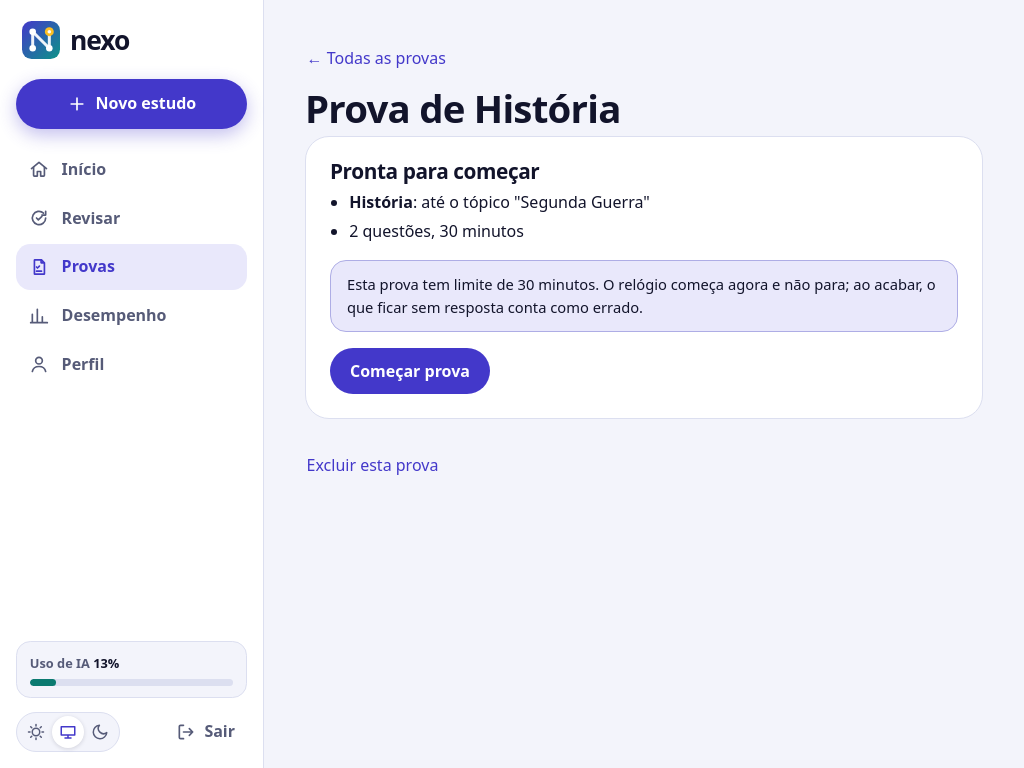
Scenario: prova não iniciada mostra o escopo e o aviso do relógio; começar e responder mandam a prova
Check: the list item "História: até o tópico \"Segunda Guerra\"" is shown, box [349,191,650,213]
Check: the text "limite de 30 minutos" is shown, box [330,260,958,332]
Click the button "Começar prova" at (410, 371), box [330,348,490,394]
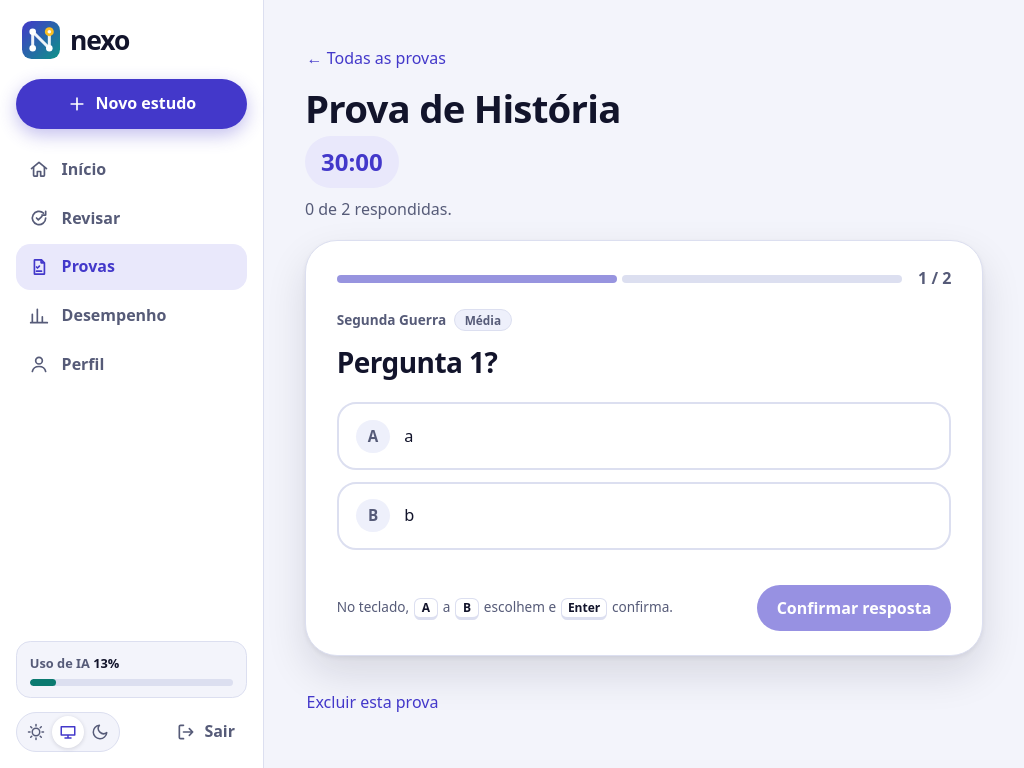
Check: the heading "Pergunta 1?" is shown, box [337,343,497,381]
Check: the text "30:00" is shown, box [321,143,383,180]
Click the button "A a" at (373, 436), box [337,402,951,470]
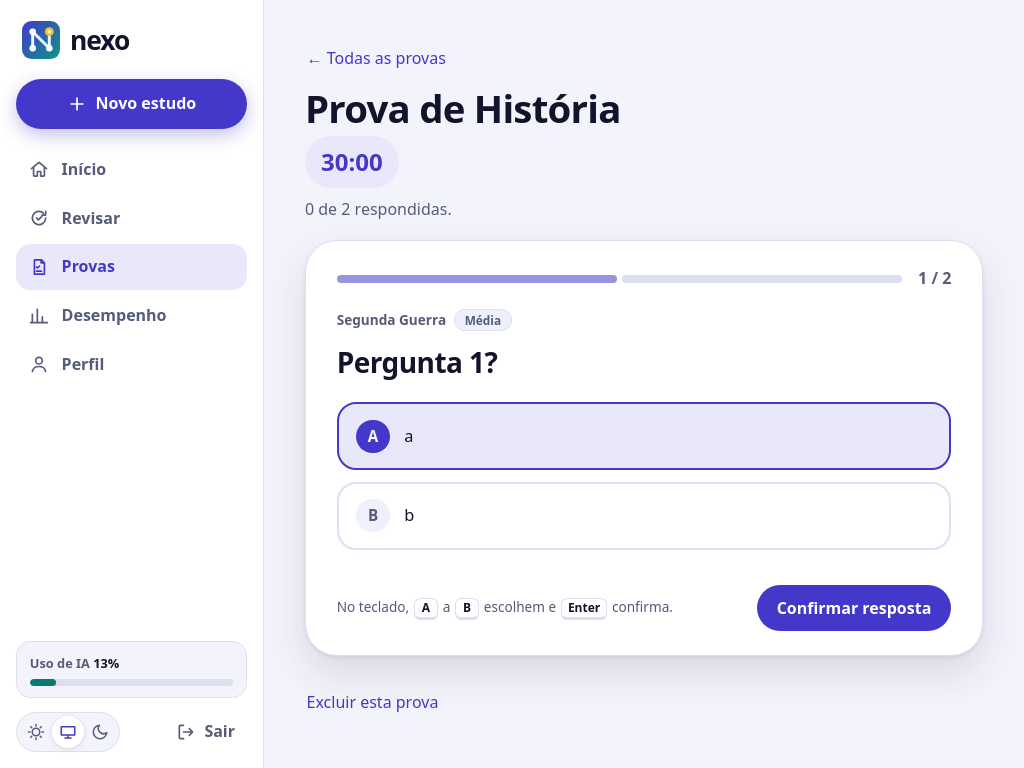
Click the button "Confirmar resposta" at (854, 608), box [757,585,951,631]
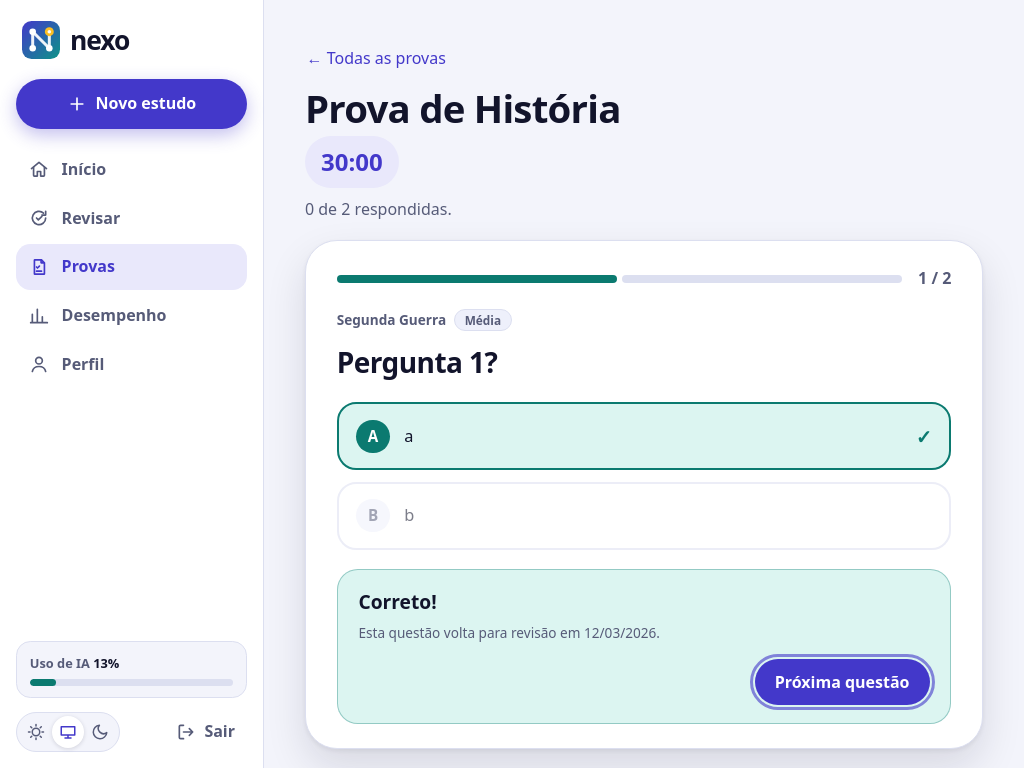
Check: the text "Correto!" is shown, box [358,588,437,615]
